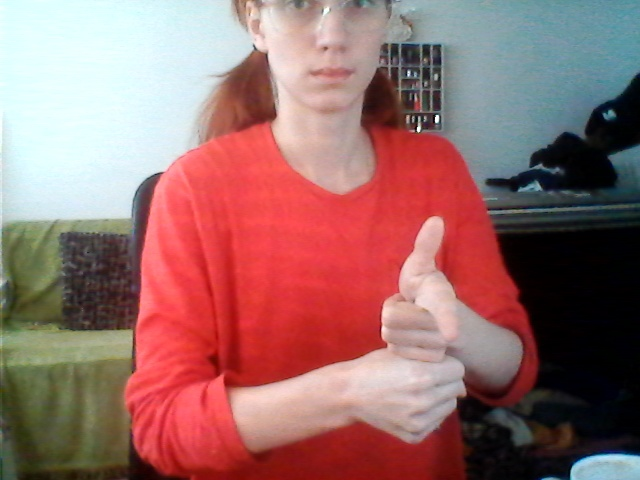kamera: (346, 213, 478, 456)
